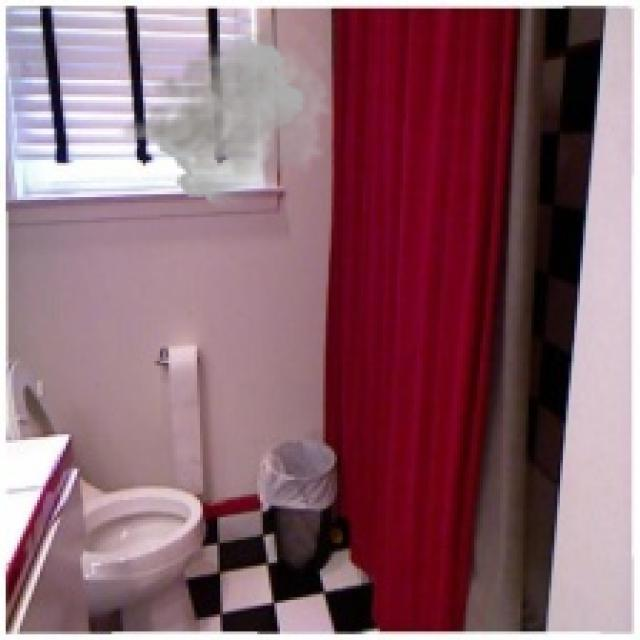Smoke: (114, 8, 334, 208)
